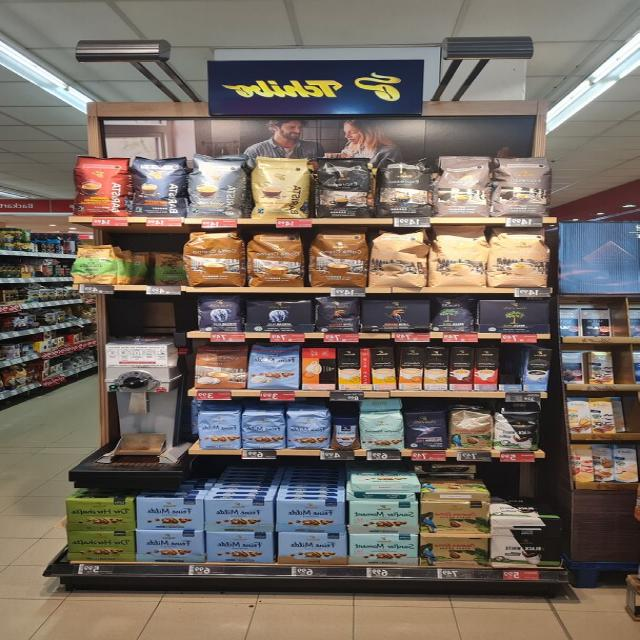AB Bohne: (196, 294, 242, 332)
AB Gemahlen: (245, 300, 312, 334)
Athiopien Bohne: (70, 243, 114, 284)
Athiopien Gemahlen: (154, 253, 184, 285)
BM Bohne: (432, 295, 476, 333)
BM Gemahlen: (478, 300, 552, 332)
BW Bohne: (493, 412, 541, 451)
BW Gemahlen: (490, 536, 564, 568)
Barista CB: (250, 156, 310, 218)
Barista CC: (186, 155, 246, 217)
Barista Espresso: (131, 154, 187, 217)
Barista Kolumbien: (71, 156, 130, 216)
C Fino Bohne: (405, 410, 448, 450)
CC Mild: (489, 227, 549, 287), (428, 225, 486, 287), (368, 228, 428, 287)
CC Vollmundig: (194, 345, 248, 389)
CC Vollmundig 36 Pads: (184, 229, 244, 286), (309, 230, 367, 288), (248, 229, 304, 287)
Colombia BB Bohne: (449, 409, 493, 452)
Colombia BB Gemahlen: (420, 502, 490, 534), (420, 537, 490, 567)
Empty Shelf: (502, 348, 524, 384)
Espresso Kraftig: (313, 157, 372, 217), (374, 156, 430, 218)
Espresso M Art: (490, 154, 552, 218), (434, 154, 492, 218)
FM 36 Pads: (247, 344, 301, 390)
FM Bohne: (286, 410, 330, 450), (198, 411, 240, 450), (242, 413, 284, 450)
FM Gemahlen: (275, 500, 345, 532), (277, 532, 347, 564), (136, 530, 203, 562), (205, 500, 272, 532), (136, 498, 202, 530), (208, 532, 274, 563)
FM Instant: (331, 417, 360, 450)
Herzhatfe Mundig: (64, 498, 134, 532), (66, 532, 134, 560)
LG Bohne: (314, 297, 358, 333)
LG Gemahlen: (360, 298, 430, 332)
SM Bohne: (360, 410, 403, 450)
SM Gemahlen: (348, 501, 420, 535), (348, 534, 420, 566)
Simo CCMild: (338, 348, 370, 389)
Simo CCMild bigpack: (371, 348, 396, 390)
Simo CCVollmundig bigpack: (398, 348, 426, 389)
Simo Decaff: (424, 348, 448, 389)
Simo Es Brazil: (475, 348, 499, 391)
Simo Es Caramel: (450, 347, 473, 390)
Simo Es Vanilla: (523, 350, 552, 391)
